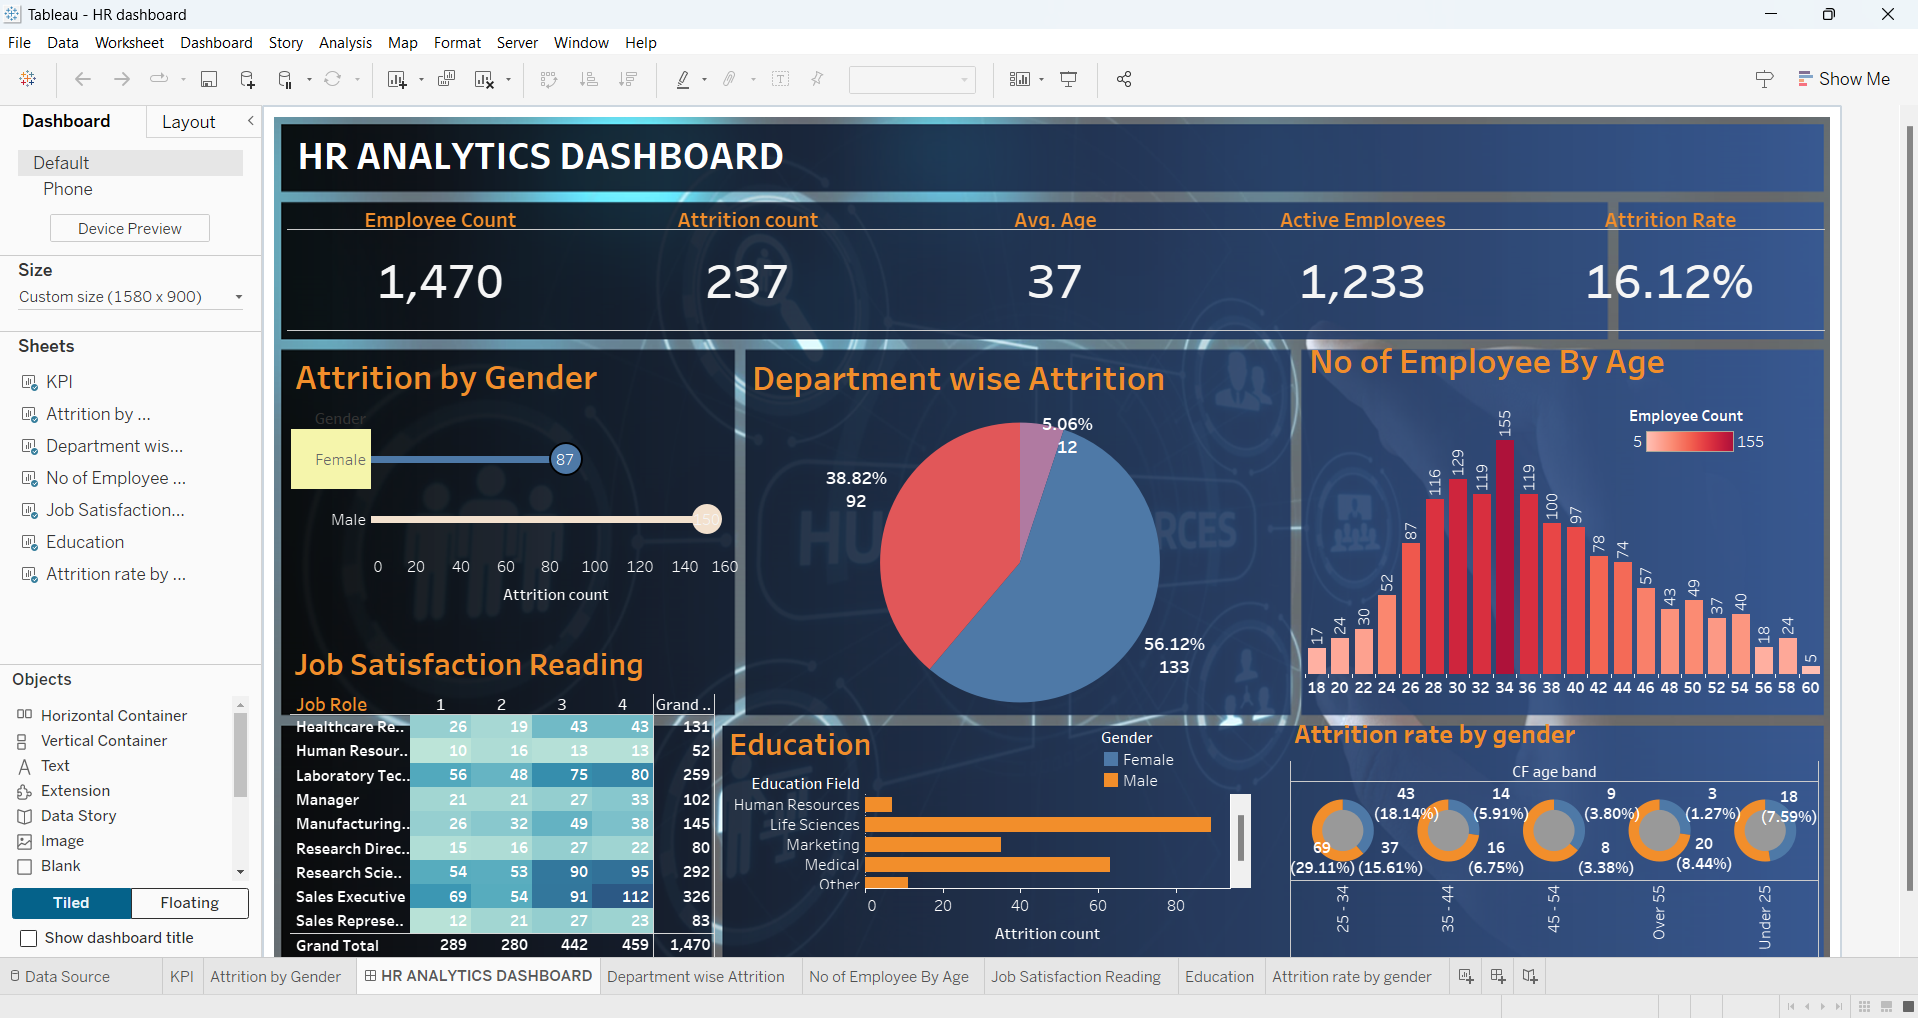

The dashboard page shown, as its layout file describes it:
{"tool":"tableau","page":{"name":"HR ANALYTICS DASHBOARD","canvas":[1580,900],"ordinal":0},"visuals":[{"type":"image","param":"C:/Users/HP/OneDrive/Desktop/HR background.png","box":[8,8,1564,884]},{"type":"text","box":[32,21,620,56]},{"type":"worksheet","title":"KPI","mark":"Automatic","box":[25,104,1538,122]},{"type":"worksheet","title":"No of Employee By Age","mark":"Automatic","rows":["Employee Count"],"cols":["Age (bin)"],"box":[1043,228,518,366]},{"type":"worksheet","title":"Attrition by Gender","mark":"Automatic","rows":["Gender"],"cols":["Calculation_344243928397778944","Calculation_344243928397778944"],"box":[29,244,450,362]},{"type":"worksheet","title":"Department wise Attrition","mark":"Pie","box":[486,245,544,365]},{"type":"legend","title":"No of Employee By Age","param":"[federated.1kiop521kwlfg917r9d8310t5nc9].[sum:Employee Count:qk]","box":[1367,300,140,88]},{"type":"worksheet","title":"Job Satisfaction Reading","mark":"Square","rows":["Job Role"],"cols":["Job Satisfaction"],"box":[28,533,425,320]},{"type":"worksheet","title":"Attrition rate by gender","mark":"Pie","rows":["Calculation_344243928448720900","Calculation_344243928448720900"],"cols":["CF_age band"],"box":[1028,607,529,282]},{"type":"worksheet","title":"Education","mark":"Automatic","rows":["Education Field"],"cols":["Calculation_344243928397778944"],"box":[463,613,526,233]},{"type":"legend","title":"Attrition rate by gender","param":"[federated.1kiop521kwlfg917r9d8310t5nc9].[none:Gender:nk]","box":[839,622,140,64]}]}

Visuals, with their boxes on the page's 1580x900 design canvas (x1, y1, x2, y2). These are canvas units, not pixel positions in the 1918x1018 screenshot, which may show the page scaled, cropped or inside an application window:
image: crop(8, 8, 1572, 892)
text: crop(32, 21, 652, 77)
"KPI" worksheet: crop(25, 104, 1563, 226)
"No of Employee By Age" worksheet: crop(1043, 228, 1561, 594)
"Attrition by Gender" worksheet: crop(29, 244, 479, 606)
"Department wise Attrition" worksheet (Pie marks): crop(486, 245, 1030, 610)
"No of Employee By Age" legend: crop(1367, 300, 1507, 388)
"Job Satisfaction Reading" worksheet (Square marks): crop(28, 533, 453, 853)
"Attrition rate by gender" worksheet (Pie marks): crop(1028, 607, 1557, 889)
"Education" worksheet: crop(463, 613, 989, 846)
"Attrition rate by gender" legend: crop(839, 622, 979, 686)
